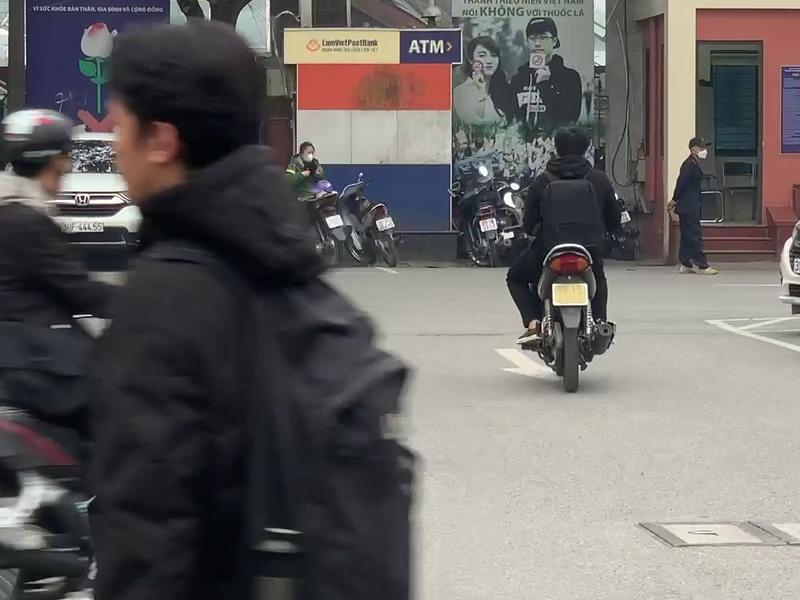license_plate: (551, 282, 588, 306), (376, 216, 394, 232), (326, 214, 344, 230), (479, 218, 498, 233)
motorcyclist: (505, 127, 619, 394)
